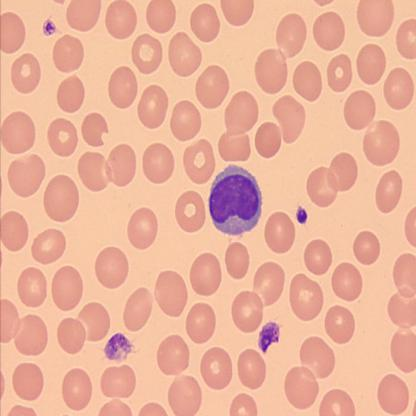Atypical lymphocyte: (208, 163, 264, 234)
